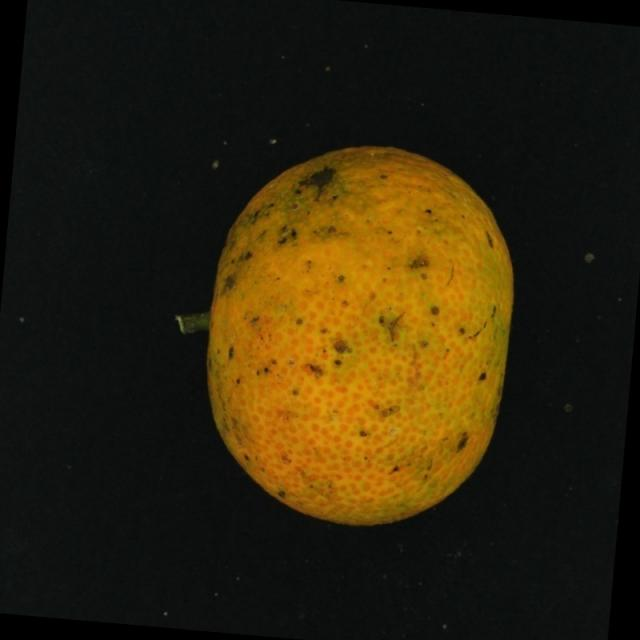grenning: (154, 138, 524, 537)
